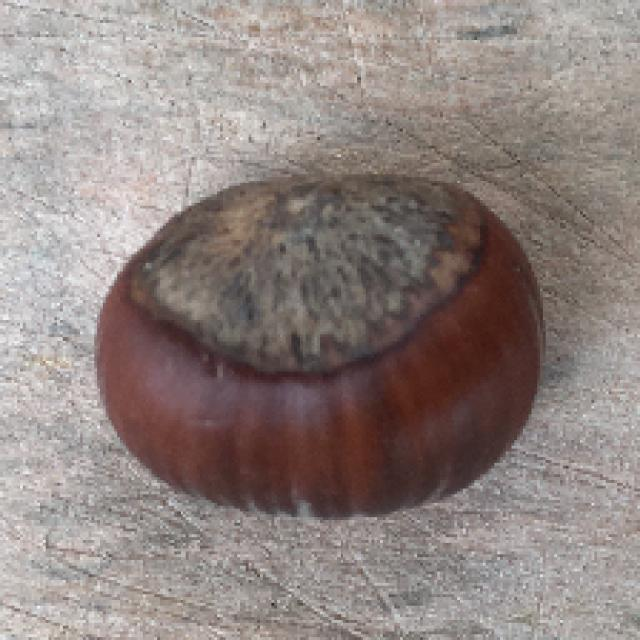damagedHazelnut: (74, 159, 550, 528)
